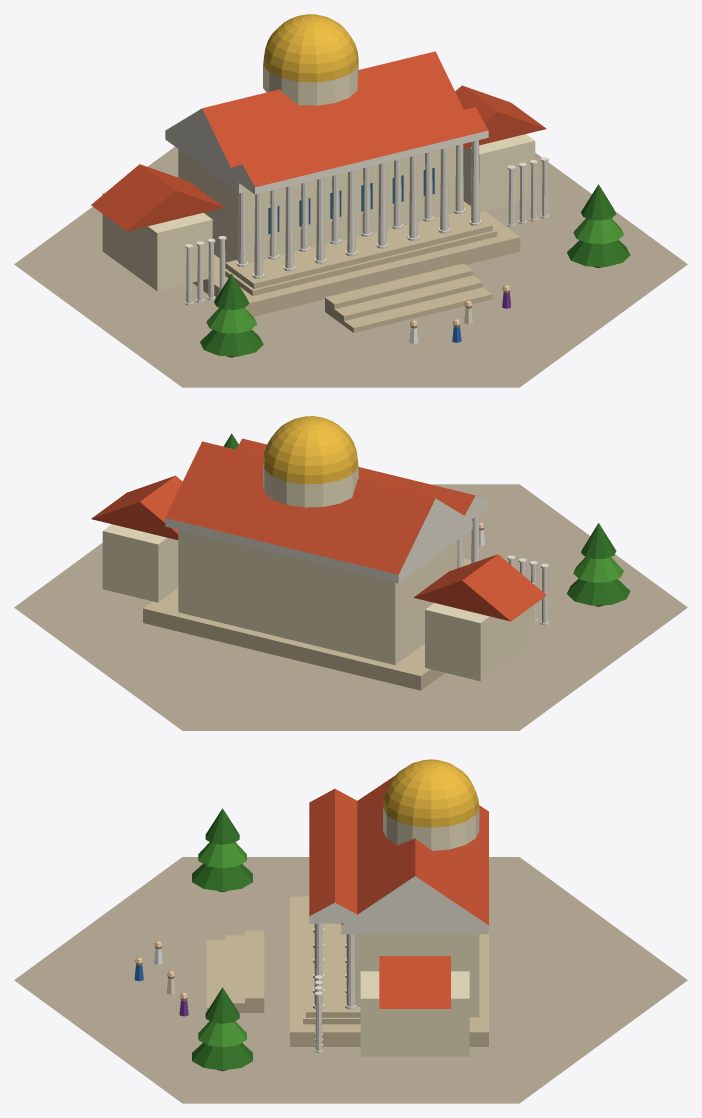
File: wonder_great_library.fbx
3 renders of one model, top to bottom at view 1: azimuth 30°, elevation 25°; view 2: azimuth 150°, elevation 25°; view 3: azimuth 270°, elevation 25°, orthographic.
Visible parts, largest first — view 1: wonder_great_library; view 2: wonder_great_library; view 3: wonder_great_library.
Part boxes in pixels (bbox=[...]): wonder_great_library: bbox=[14, 14, 687, 387]; wonder_great_library: bbox=[14, 416, 687, 730]; wonder_great_library: bbox=[14, 759, 687, 1103].
Size of the model in its own units: 182 by 74.4 by 210.
